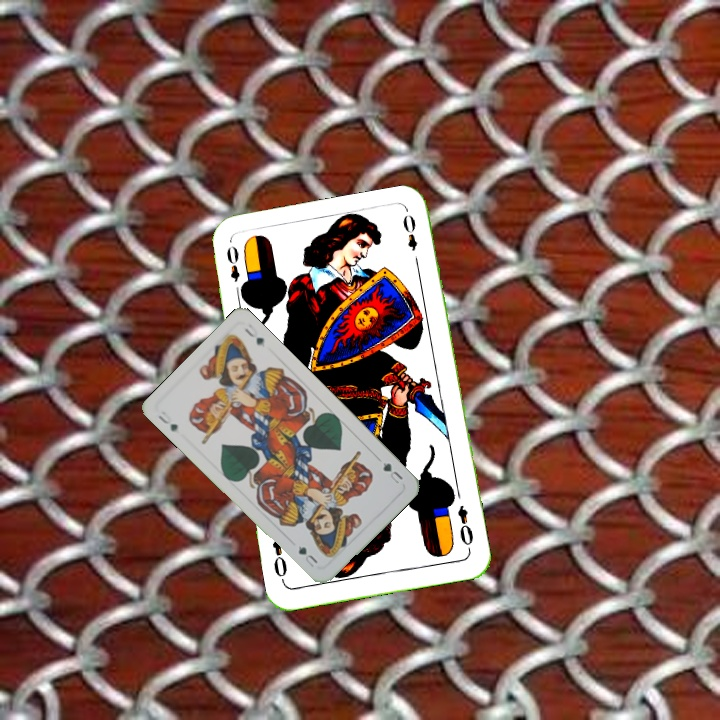EO: (222, 241, 247, 299), (453, 501, 476, 553)
GU: (379, 458, 406, 486), (154, 411, 180, 435)
